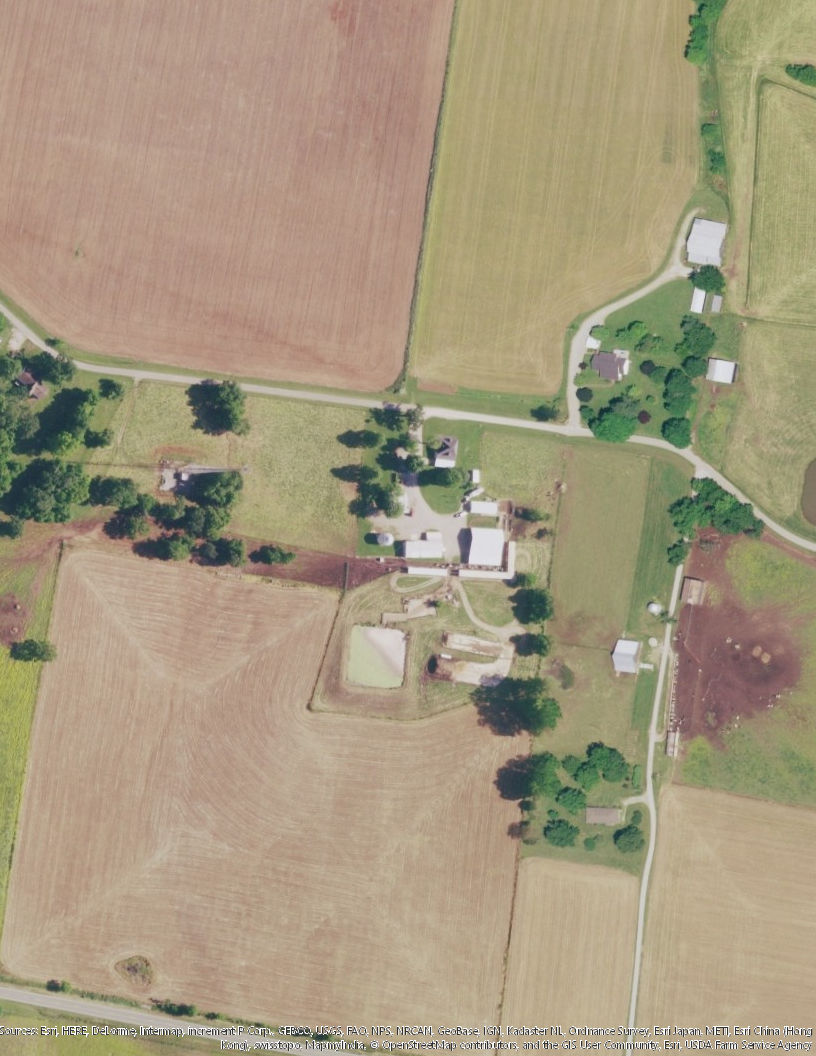cafo: (458, 528, 524, 582), (402, 525, 456, 583), (463, 496, 503, 521)
